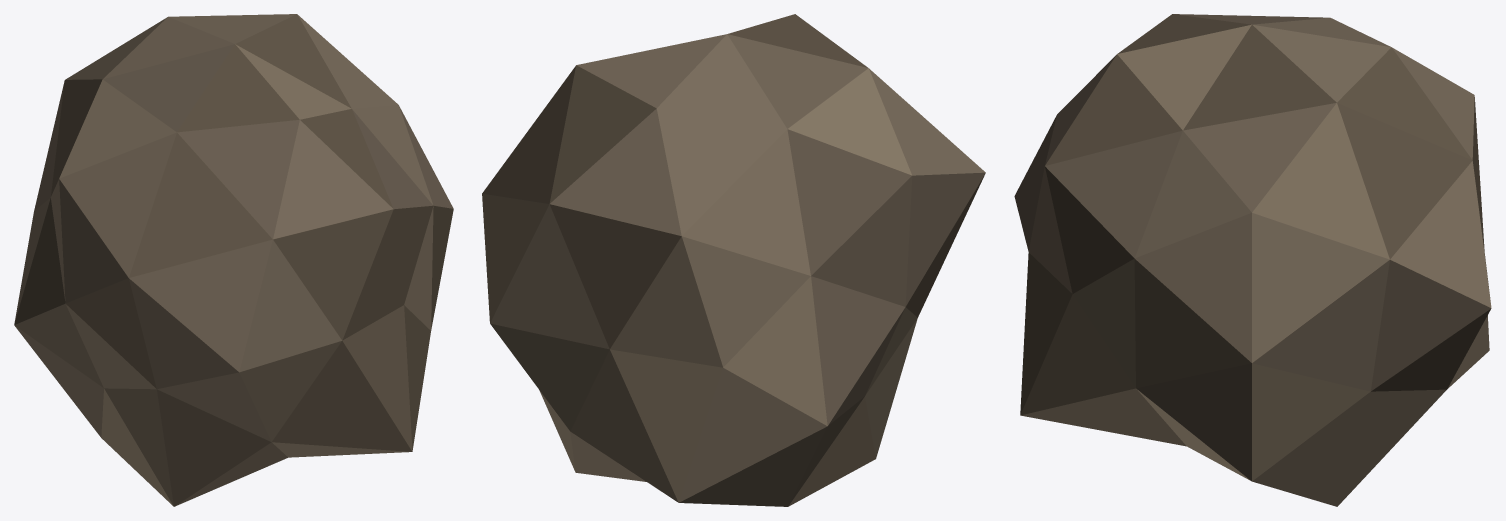
File: fr_rock_b.glb
3 renders of one model, left to right at view 1: azimuth 30°, elevation 25°; view 2: azimuth 150°, elevation 25°; view 3: azimuth 270°, elevation 25°, orthographic. The views are drawn at different scales.
Visible parts, largest first — view 1: fr_rock_b; view 2: fr_rock_b; view 3: fr_rock_b.
Boxes of the visible parts, x1,y1,x2,y2 form: fr_rock_b: (14,14,453,506); fr_rock_b: (482,14,985,506); fr_rock_b: (1014,14,1491,506).
Bounding box in the file's own units: 1.9 × 2 × 1.91.
